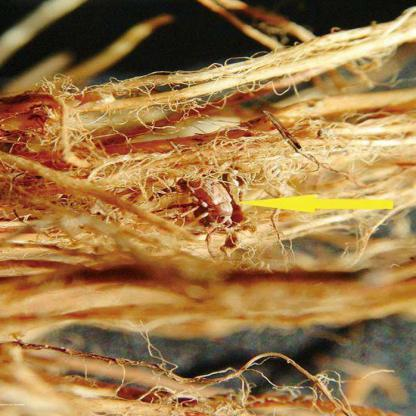rice-bug: (168, 166, 244, 252)
